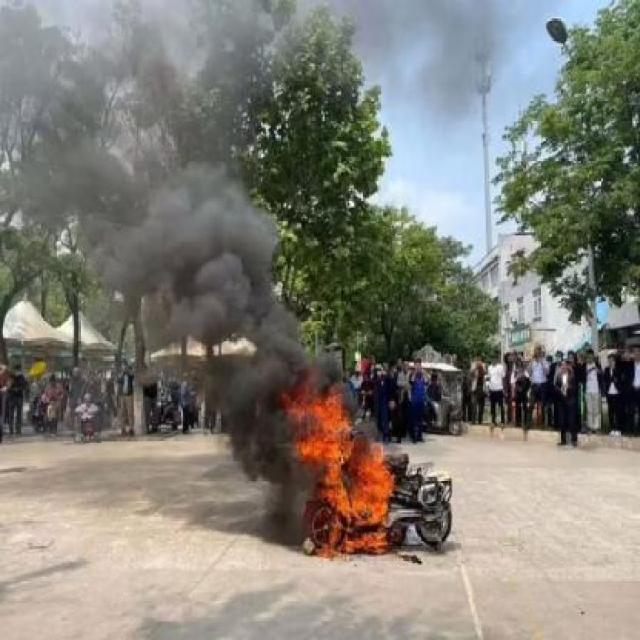Fire: (298, 382, 392, 553)
Smoke: (124, 175, 327, 477)
